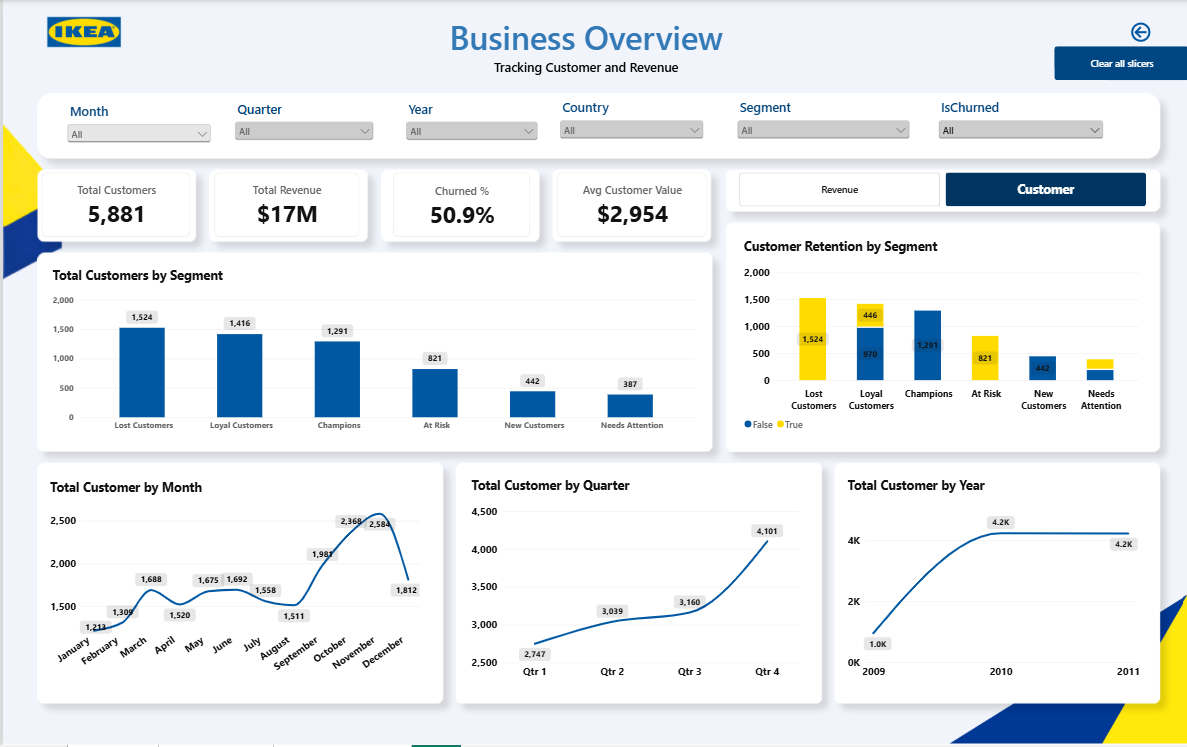

The dashboard page shown, as its layout file describes it:
{"tool":"powerbi","page":{"name":"Overview","canvas":[1750,1100],"ordinal":1},"visuals":[{"type":"cardVisual","fields":{"Data":["Sheet1.Total Customers"]},"box":[57.1,254.4,219.3,95.8],"z":0},{"type":"columnChart","title":"Customer Retention by Segment","fields":{"Category":["Sheet1.Segment"],"Series":["Sheet1.IsChurned"],"Y":["Sheet1.Total Customers"]},"box":[1078,336,614,320],"z":0,"group":"g1"},{"type":"pieChart","title":"Revenue Retention by Segment","fields":{"Category":["Sheet1.Segment"],"Series":["Sheet1.IsChurned"],"Y":["Sheet1.Total Revenue"]},"box":[1078,350,614,306],"z":1000},{"type":"columnChart","fields":{"Category":["Sheet1.Segment"],"Y":["Sheet1.Total Customers"]},"box":[58,378,980,278],"z":1000,"group":"g1"},{"type":"cardVisual","fields":{"Data":["Sheet1.Toatal Revenue"]},"box":[311.5,254.4,213.8,95.8],"z":2000},{"type":"lineChart","title":"Total Customer by Year","fields":{"Category":["Sheet1.InvoiceMonth.Variation.Date Hierarchy.Year"],"Y":["Sheet1.Total Customers"]},"box":[1229.7,688,462.6,333.6],"z":2000,"group":"g1"},{"type":"columnChart","fields":{"Category":["Sheet1.Segment"],"Y":["Sheet1.Toatal Revenue"]},"box":[58,378,980,278],"z":3000},{"type":"lineChart","title":"Total Customer by Quarter","fields":{"Category":["Sheet1.InvoiceMonth.Variation.Date Hierarchy.Quarter"],"Y":["Sheet1.Total Customers"]},"box":[676,688,514,334],"z":3000,"group":"g1"},{"type":"cardVisual","fields":{"Data":["Sheet1.Churned %"]},"box":[575.1,254.4,202.7,95.8],"z":4000},{"type":"lineChart","title":"Total Customer by Month","fields":{"Category":["Sheet1.InvoiceMonth.Variation.Date Hierarchy.Month"],"Y":["Sheet1.Total Customers"]},"box":[54.3,691.7,576.9,329.9],"z":4000,"group":"g1"},{"type":"lineChart","title":"Total Revenue by Year","fields":{"Category":["Sheet1.InvoiceMonth.Variation.Date Hierarchy.Year"],"Y":["Sheet1.Total Revenue"]},"box":[1240,702,452,320],"z":5000},{"type":"cardVisual","fields":{"Data":["Sheet1.Avg Customer Value"]},"box":[816.5,254.4,221.2,95.8],"z":6000},{"type":"lineChart","title":"Total Revenue by Quarter","fields":{"Category":["Sheet1.InvoiceMonth.Variation.Date Hierarchy.Quarter"],"Y":["Sheet1.Total Revenue"]},"box":[676,688,514,334],"z":7000},{"type":"slicer","fields":{"Values":["Sheet1.InvoiceDate.Variation.Date Hierarchy.Month"]},"box":[90.3,151.1,221.2,71.9],"z":8000},{"type":"lineChart","title":"Total Revenue by Month","fields":{"Category":["Sheet1.InvoiceMonth.Variation.Date Hierarchy.Month"],"Y":["Sheet1.Total Revenue"]},"box":[58,702,574,320],"z":9000},{"type":"slicer","fields":{"Values":["Sheet1.InvoiceDate.Variation.Date Hierarchy.Quarter"]},"box":[337.3,147.5,213.8,75.6],"z":10000},{"type":"slicer","fields":{"Values":["Sheet1.InvoiceDate.Variation.Date Hierarchy.Year"]},"box":[589.8,147.5,203,150],"z":11000},{"type":"slicer","fields":{"Values":["Sheet1.Country"]},"box":[816.5,145.6,221,150],"z":12000},{"type":"slicer","fields":{"Values":["Sheet1.Segment"]},"box":[1078.3,145.6,263.6,232.2],"z":13000},{"type":"slicer","fields":{"Values":["Sheet1.IsChurned"]},"box":[1375,145.6,252.5,300.4],"z":14000},{"type":"group","id":"g1","title":"Customer","box":[54.3,336,1638,686],"z":15000},{"type":"bookmarkNavigator","box":[1086,254,600,50],"z":16000},{"type":"image","box":[38,0,162,94],"z":18000},{"type":"textbox","box":[460,22,798,96],"z":19000},{"type":"actionButton","box":[1628,28,100,40],"z":20000},{"type":"actionButton","box":[1550,68,200,50],"z":21000}]}

Visuals, with their boxes in screenshot pixels (x1, y1, x2, y2), scaled from the page's 1750x1100 canvas onto the 1187x747 screenshot:
cardVisual - Sheet1.Total Customers: detection(39, 173, 187, 238)
"Customer Retention by Segment" columnChart: detection(731, 228, 1148, 445)
"Revenue Retention by Segment" pieChart: detection(731, 238, 1148, 445)
columnChart - Sheet1.Segment x Sheet1.Total Customers: detection(39, 257, 704, 445)
cardVisual - Sheet1.Toatal Revenue: detection(211, 173, 356, 238)
"Total Customer by Year" lineChart: detection(834, 467, 1148, 694)
columnChart - Sheet1.Segment x Sheet1.Toatal Revenue: detection(39, 257, 704, 445)
"Total Customer by Quarter" lineChart: detection(459, 467, 807, 694)
cardVisual - Sheet1.Churned %: detection(390, 173, 528, 238)
"Total Customer by Month" lineChart: detection(37, 470, 428, 694)
"Total Revenue by Year" lineChart: detection(841, 477, 1148, 694)
cardVisual - Sheet1.Avg Customer Value: detection(554, 173, 704, 238)
"Total Revenue by Quarter" lineChart: detection(459, 467, 807, 694)
slicer - Sheet1.InvoiceDate.Variation.Date Hierarchy.Month: detection(61, 103, 211, 151)
"Total Revenue by Month" lineChart: detection(39, 477, 429, 694)
slicer - Sheet1.InvoiceDate.Variation.Date Hierarchy.Quarter: detection(229, 100, 374, 152)
slicer - Sheet1.InvoiceDate.Variation.Date Hierarchy.Year: detection(400, 100, 538, 202)
slicer - Sheet1.Country: detection(554, 99, 704, 201)
slicer - Sheet1.Segment: detection(731, 99, 910, 257)
slicer - Sheet1.IsChurned: detection(933, 99, 1104, 303)
"Customer" group: detection(37, 228, 1148, 694)
bookmarkNavigator: detection(737, 172, 1144, 206)
image: detection(26, 0, 136, 64)
textbox: detection(312, 15, 853, 80)
actionButton: detection(1104, 19, 1172, 46)
actionButton: detection(1051, 46, 1186, 80)
